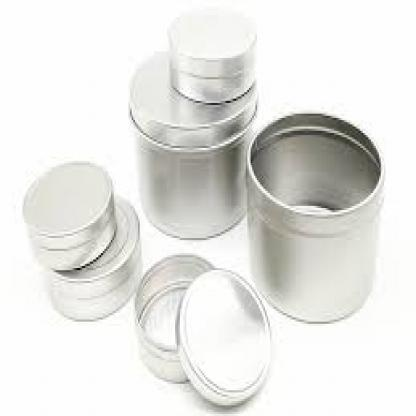Compsot: (242, 109, 384, 324), (127, 47, 254, 238), (173, 264, 270, 405), (46, 193, 140, 317), (134, 253, 216, 382), (23, 161, 118, 270), (167, 6, 257, 98)
